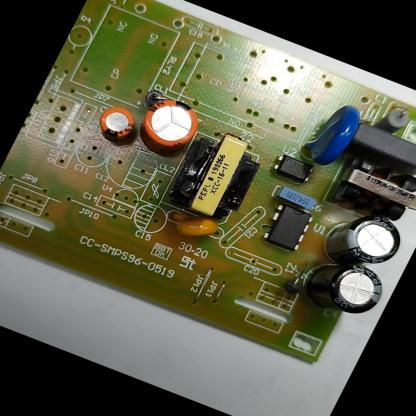Cap1: (133, 90, 207, 155)
Cap2: (92, 100, 142, 146)
Cap3: (314, 200, 408, 279)
Cap4: (292, 248, 394, 327)
MOSFET: (258, 198, 318, 255)
Mov: (295, 95, 368, 172)
Resistor: (372, 99, 416, 137)
Transformer: (167, 126, 272, 226), (330, 146, 416, 226)
